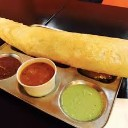dosa: (1, 13, 128, 77)
